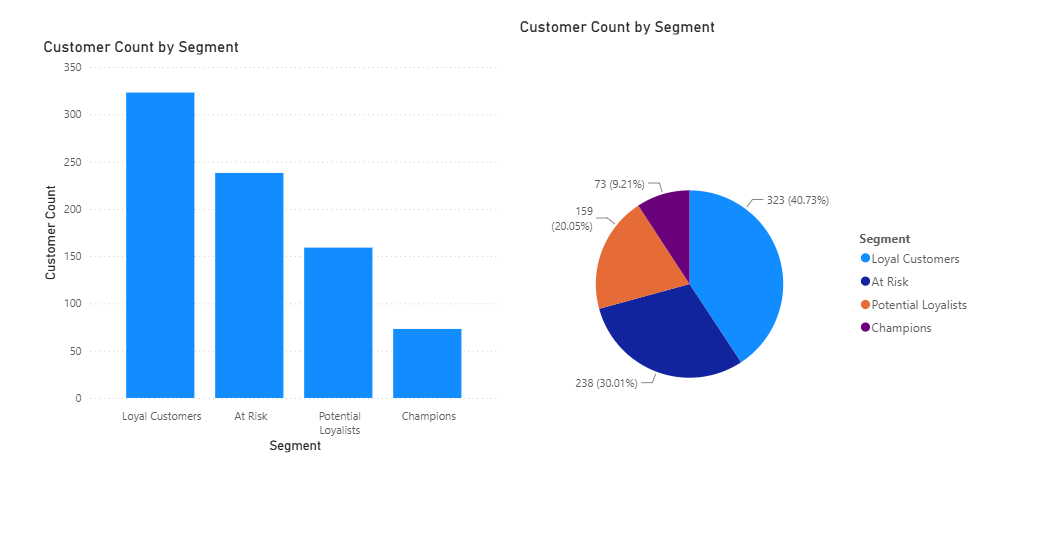

Layout of this report page (visuals, bound fields, positions):
{"tool":"powerbi","page":{"name":"Customer Segmentation","canvas":[1280,720],"ordinal":1},"visuals":[{"type":"clusteredColumnChart","fields":{"Category":["rfm_segments.Segment"],"Y":["rfm_segments.Customer Count"]},"box":[76.2,76.2,511.2,461.2],"z":0},{"type":"pieChart","fields":{"Category":["rfm_segments.Segment"],"Y":["rfm_segments.Customer Count"]},"box":[600,55,510,567.5],"z":1000}]}

Visuals, with their boxes on the page's 1280x720 design canvas (x1, y1, x2, y2). These are canvas units, not pixel positions in the 1057x552 screenshot, which may show the page scaled, cropped or inside an application window:
clusteredColumnChart - rfm_segments.Segment x rfm_segments.Customer Count: BBox(76, 76, 587, 537)
pieChart - rfm_segments.Segment x rfm_segments.Customer Count: BBox(600, 55, 1110, 622)
